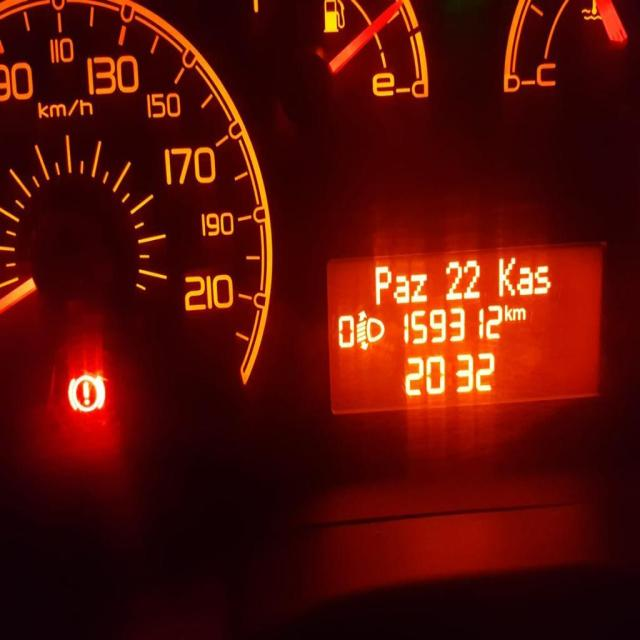odometer: (323, 239, 608, 421)
